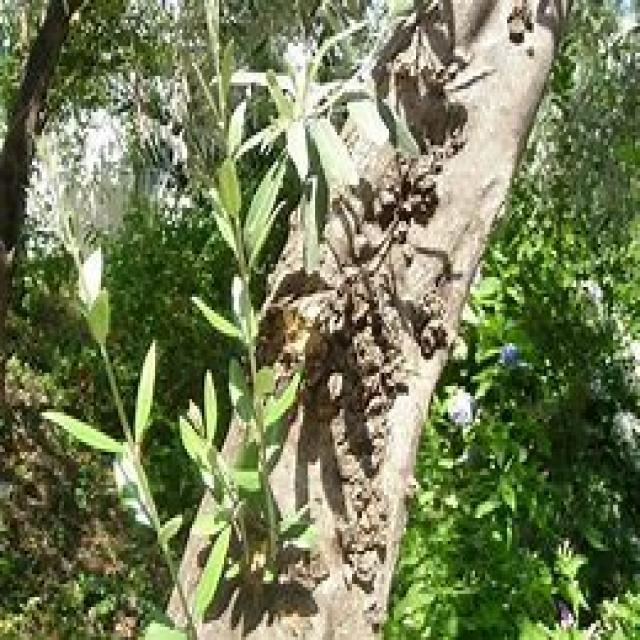Tuberculosis: (312, 250, 403, 586), (408, 277, 451, 356), (508, 0, 530, 46)
